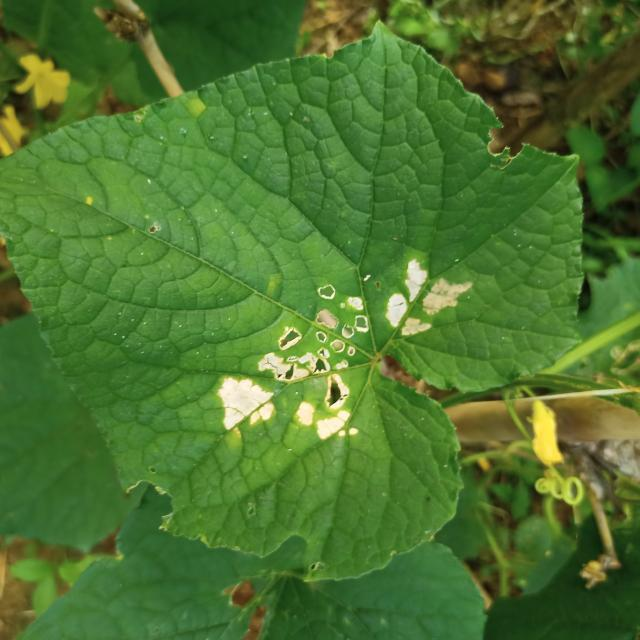disease_cucumber: (215, 278, 376, 453), (382, 254, 478, 344)
